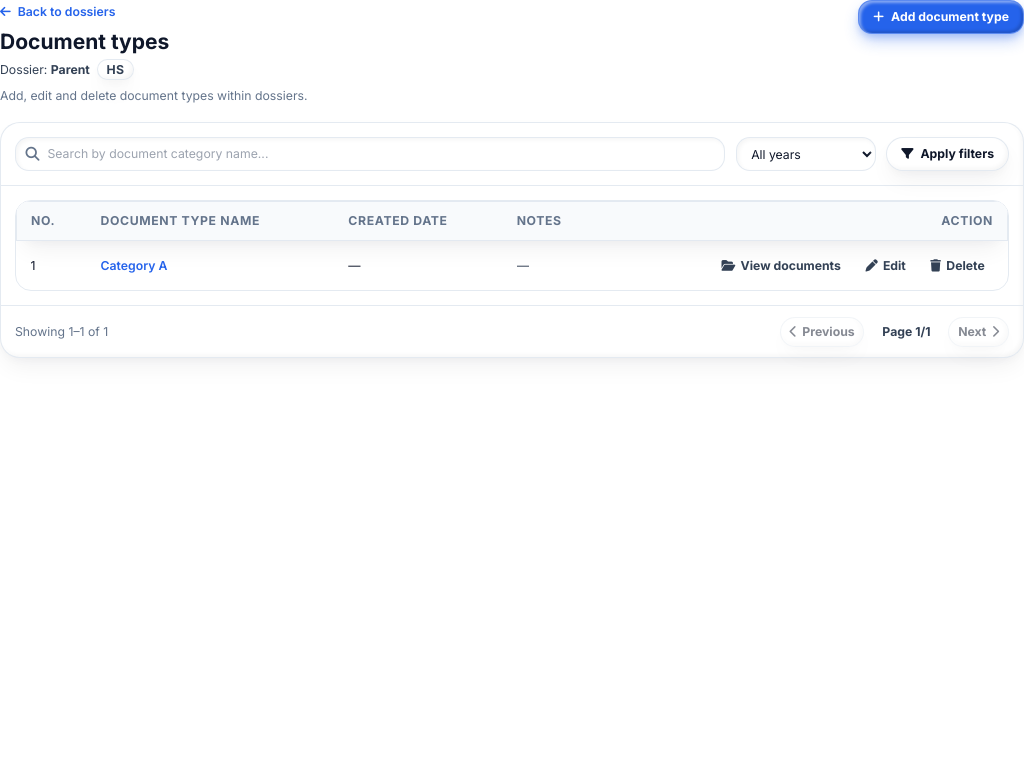
Test: DocumentTypesPage shared-list handoff › edits without opening the document destination and retains input on validation errors
The width and height of the screenshot is (1024, 768).
Click the button with aria-label "Edit Category A" at {"x": 886, "y": 266}, box [857,252,915,280]
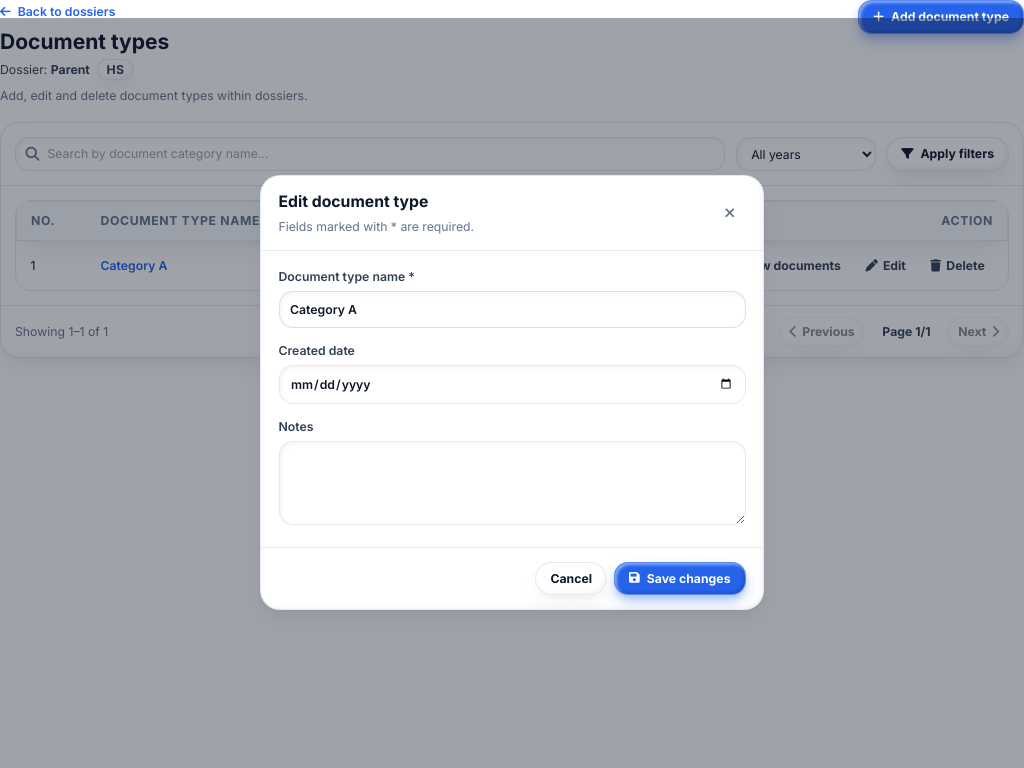
Expected: the field labelled "Document type name *" holds "Category A"
Replace the text in the field labelled "Document type name *" with "Renamed category" at {"x": 512, "y": 310}, box [278,291,746,328]
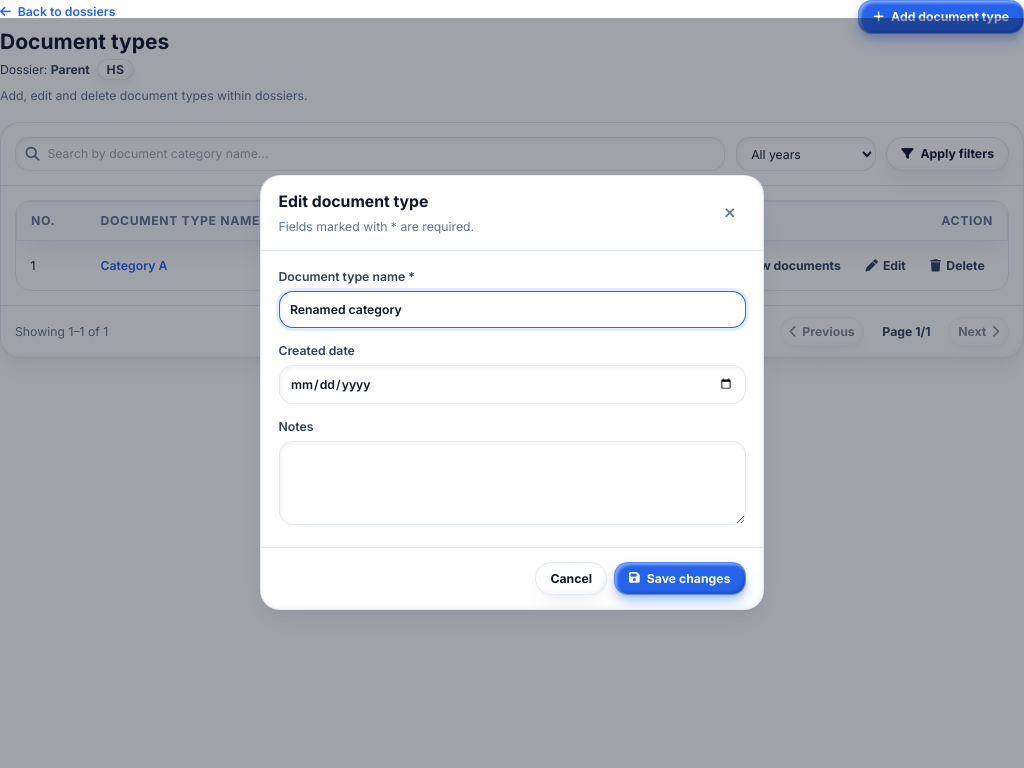
Submit the dialog, box [260,175,764,610]
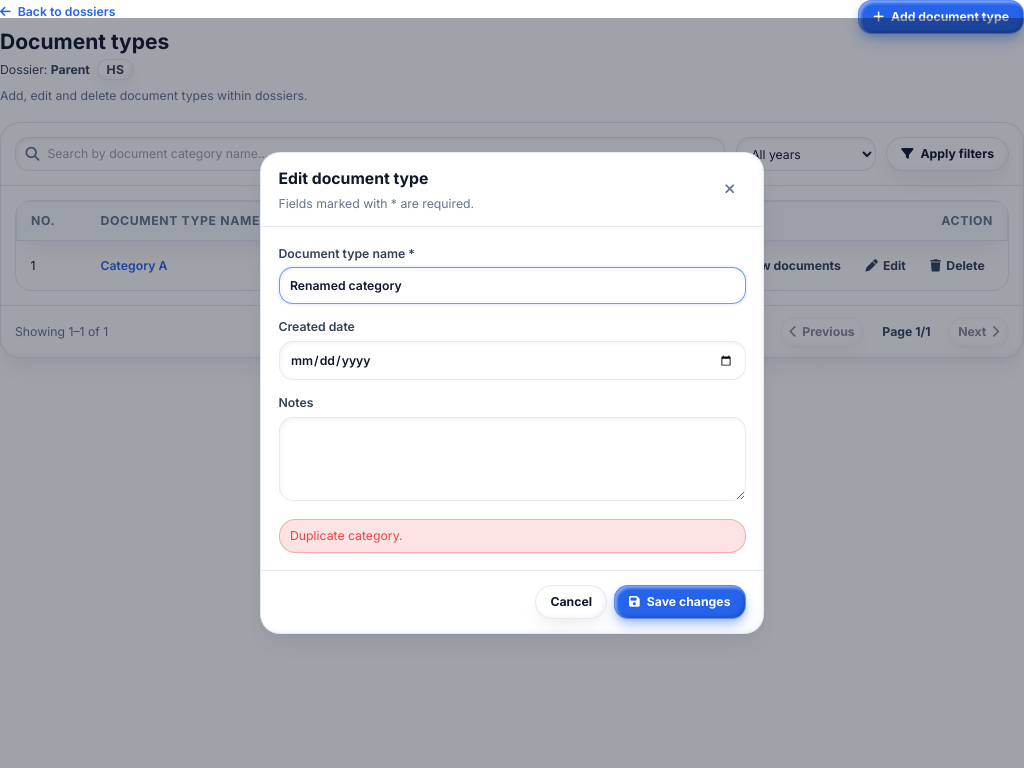
Expected: the message reads "Duplicate category.", [290,528,403,543]
Submit the dialog, box [260,152,764,634]
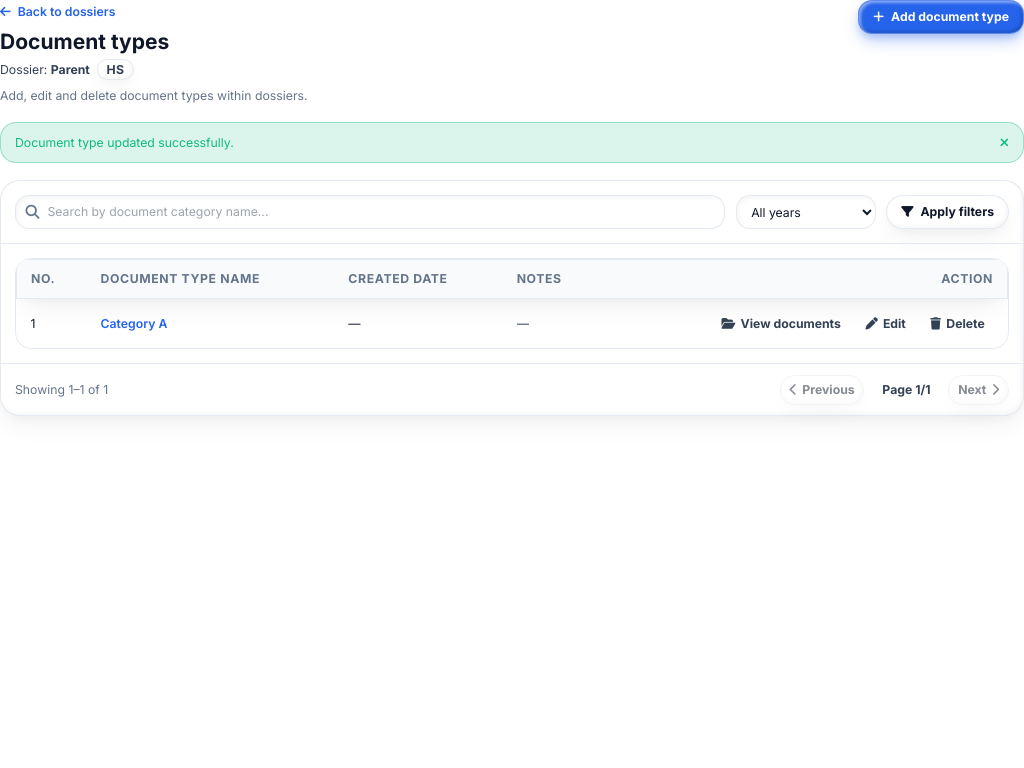
Expected: the message reads "Document type updated successfully.", [15,135,234,150]
